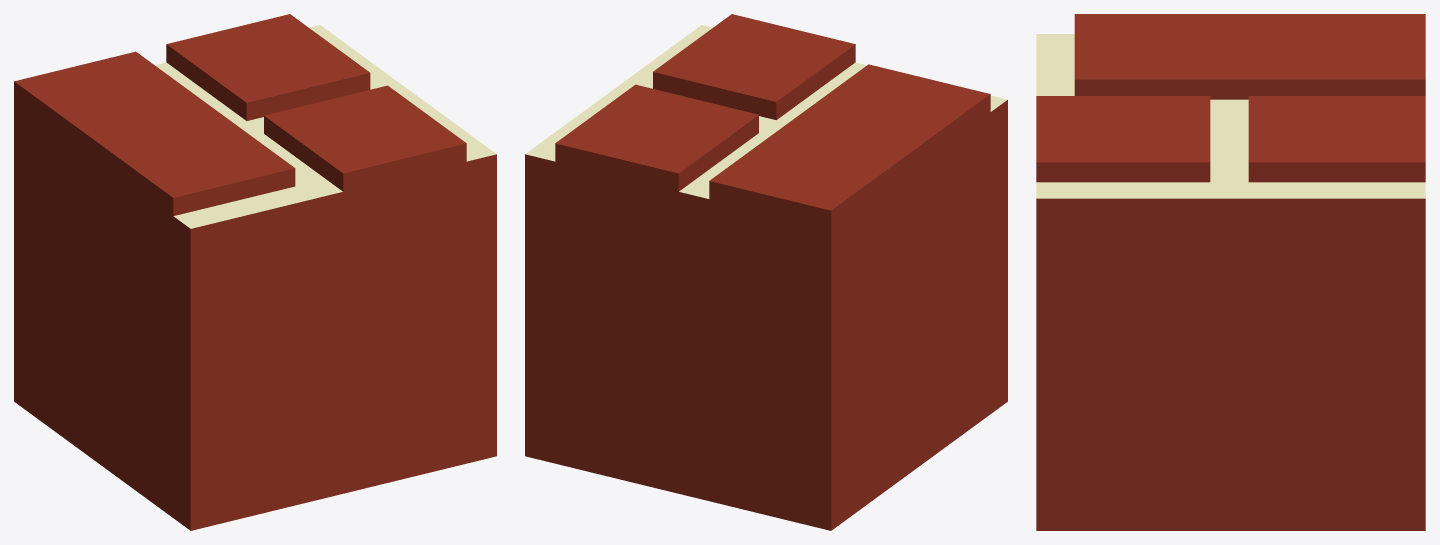
Rendered from wall_1.glb.
3 renders of one model, left to right at view 1: azimuth 30°, elevation 25°; view 2: azimuth 150°, elevation 25°; view 3: azimuth 270°, elevation 25°, orthographic. The views are drawn at different scales.
Visible parts, largest first — view 1: wall_1; view 2: wall_1; view 3: wall_1.
Part boxes in pixels (x1,y1,x2,y2): wall_1: (14,14,496,530); wall_1: (525,14,1007,530); wall_1: (1036,14,1425,530).
Bounding box in the file's own units: 1 × 0.9998 × 1.
Materials: 1 (1 with a texture image).
